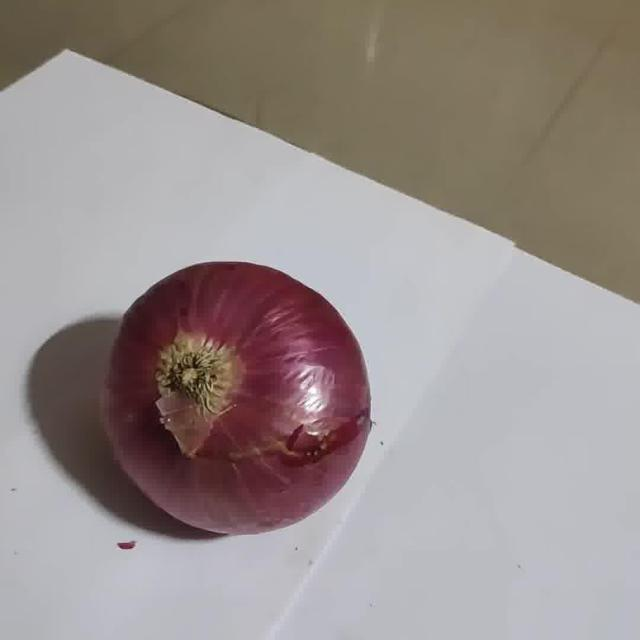Onion: (105, 262, 371, 534)
